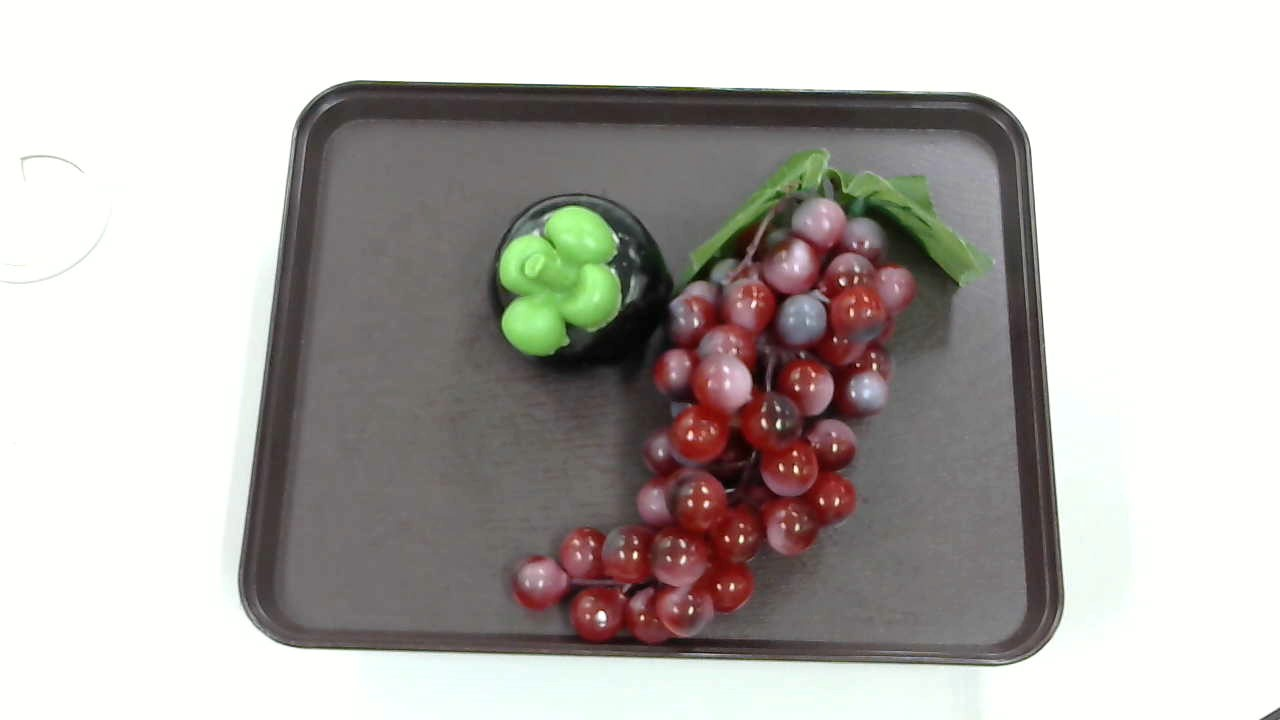grape: (517, 146, 969, 644)
mangosteen: (483, 190, 673, 378)
